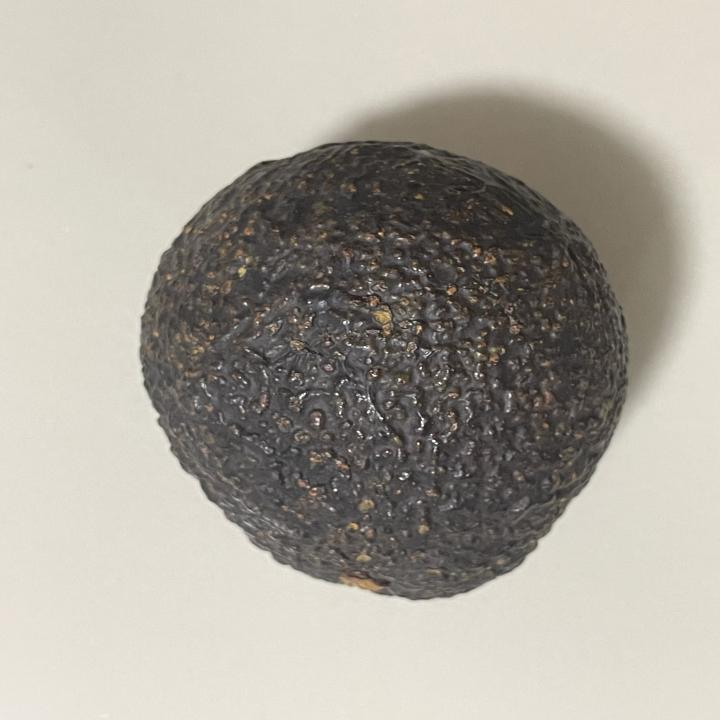Level2: (132, 136, 636, 610)
